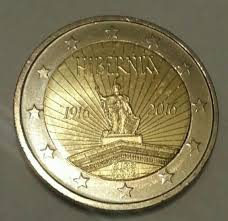eur002: (14, 15, 219, 215)
